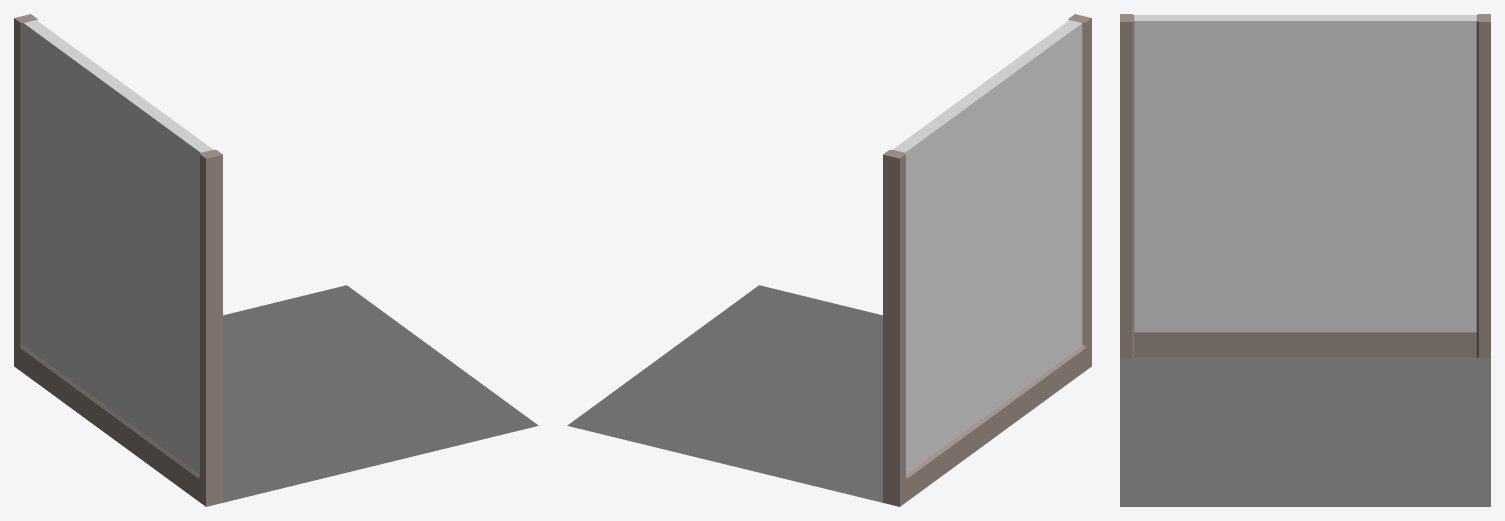
Rendered from wall_edge_mesh.fbx.
3 views of the same model, side by side, from view 1: azimuth 30°, elevation 25°; view 2: azimuth 150°, elevation 25°; view 3: azimuth 270°, elevation 25° (orthographic). The views are drawn at different scales.
Visible parts, largest first — view 1: wall_edge_mesh; view 2: wall_edge_mesh; view 3: wall_edge_mesh.
Part boxes in pixels (x1,y1,x2,y2): wall_edge_mesh: (14, 14, 538, 506); wall_edge_mesh: (567, 14, 1091, 506); wall_edge_mesh: (1120, 14, 1490, 506).
Size of the model in its own units: 1 by 1 by 1.
